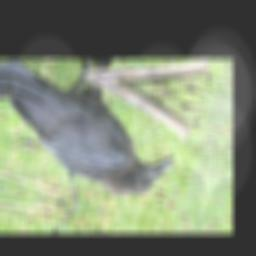Crow: (0, 59, 194, 206)
